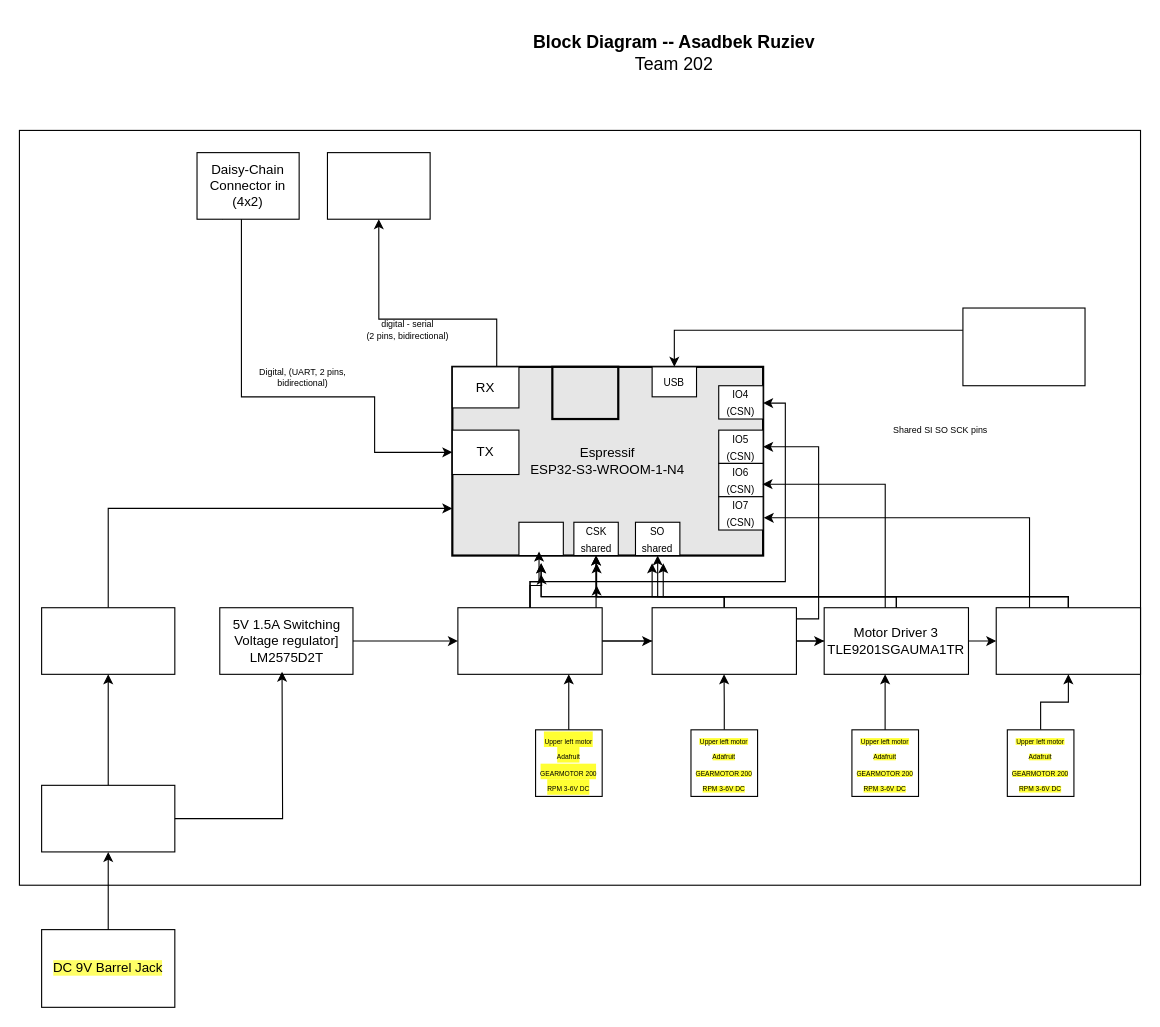
This 1160x1027 diagram has some shape labels left out. The shapes that lost their labels are listed below. From the top down, each one's centre as x and y in pixels, then its label:
At point (378, 185): "Daisy-Chain Connector Out (4x2)".
At point (1023, 346): "Micro USB3131-30-0230 VBUS".
At point (585, 392): "Wifi motor control".
At point (540, 538): "SI shared".
At point (108, 640): "3.3V 1.5A Switching Voltage regulator LM2575D2T".
At point (529, 640): "Motor Driver 1 TLE9201SGAUMA1TR".
At point (723, 640): "Motor Driver 2 TLE9201SGAUMA1TR".
At point (1068, 640): "Motor Driver 4 TLE9201SGAUMA1TR".
At point (108, 818): "Barrel Jack Adapter".
